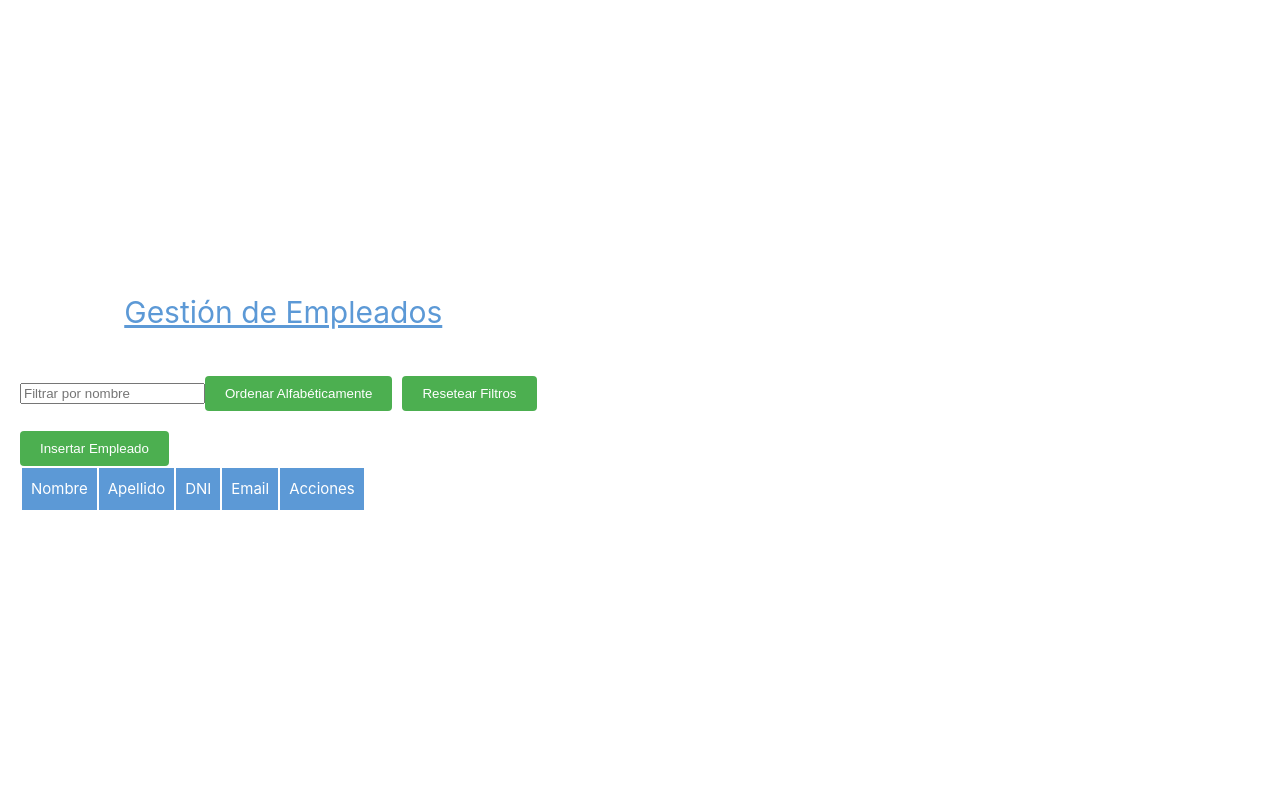
it: InsertarEmpleado › Debería abrir el modal de creación de empleado
The width and height of the screenshot is (1280, 800).
Click the button "Insertar Empleado" at (95, 449), box [20,431,169,466]
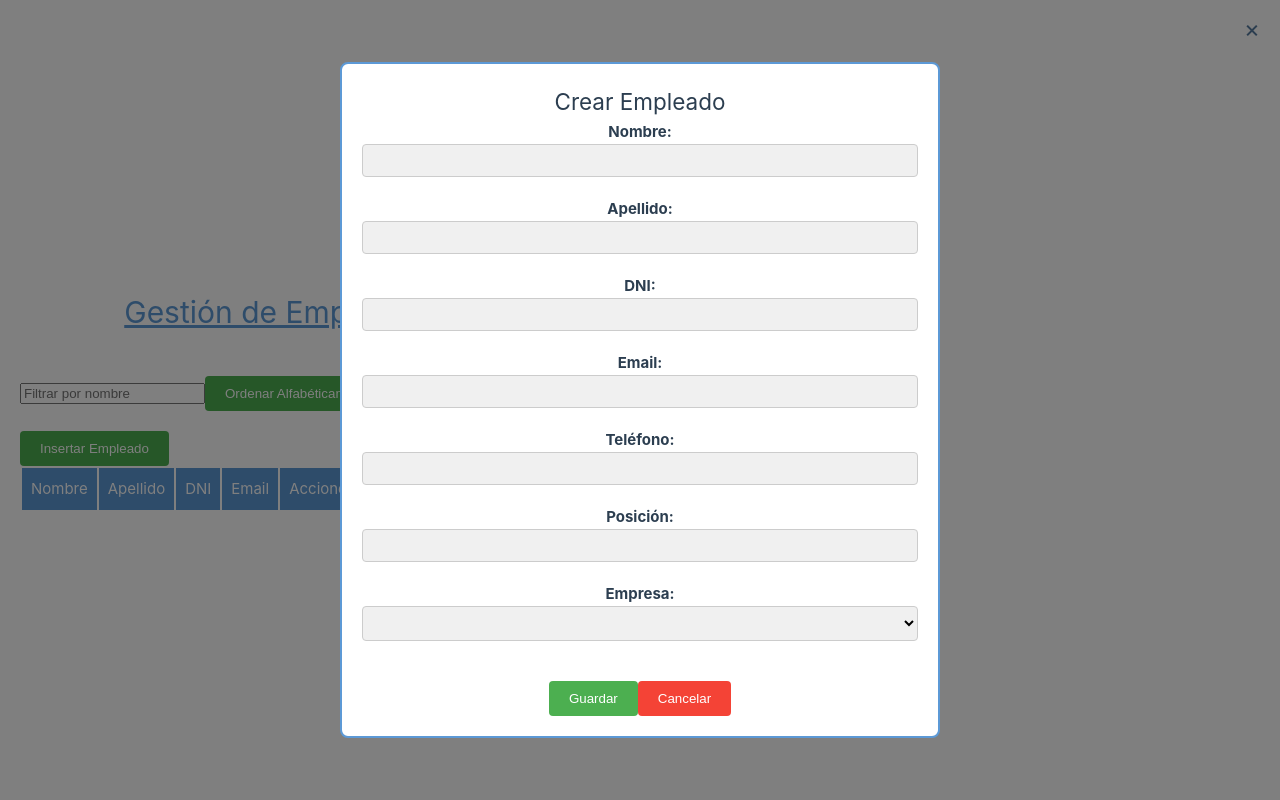
expect the element with class "modal" is shown: met
